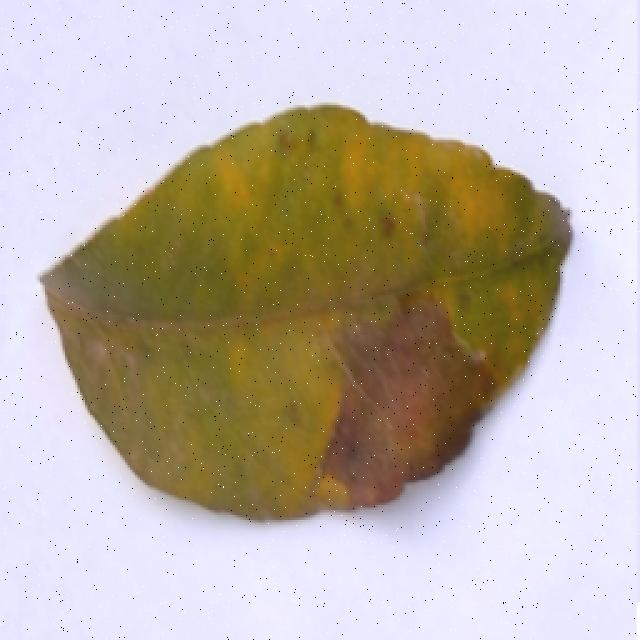blackspot: (24, 76, 591, 524)
